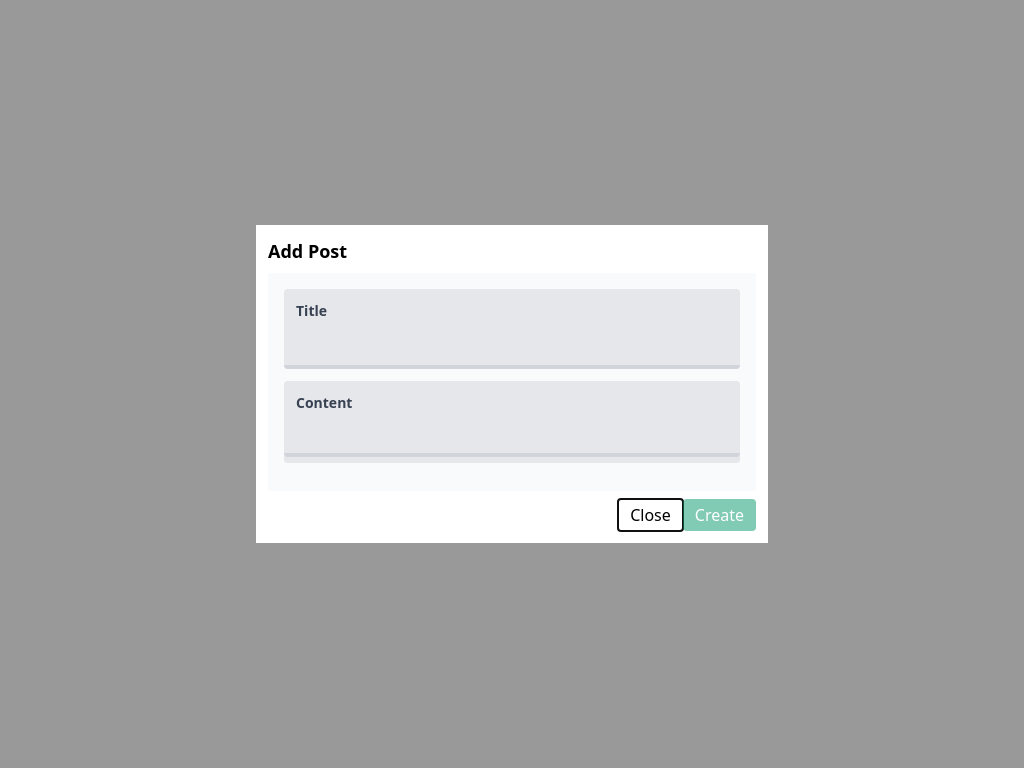
it: PostModal › user fills the post title and post content › should have the modal action button enabled
This screenshot has width=1024, height=768.
Step 1. Type "test title" into the field labelled "Title" → (512, 349), box [284,329,740,369]
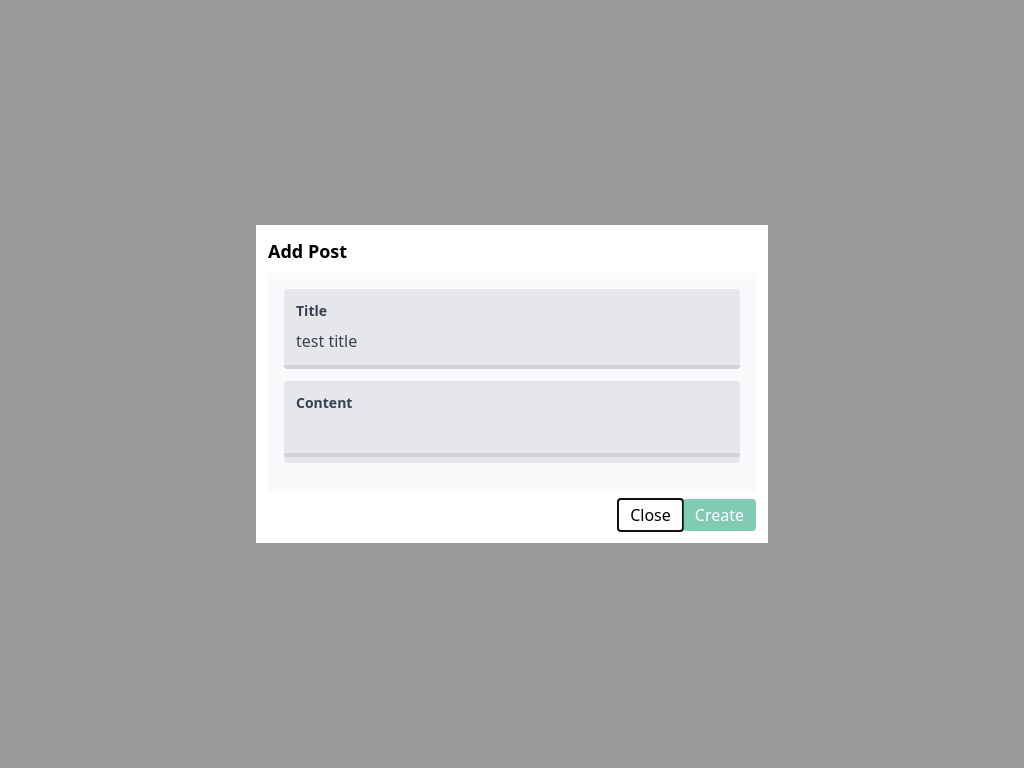
Step 2. Type "test content" into the text box labelled "Content" → (512, 439), box [284,421,740,457]
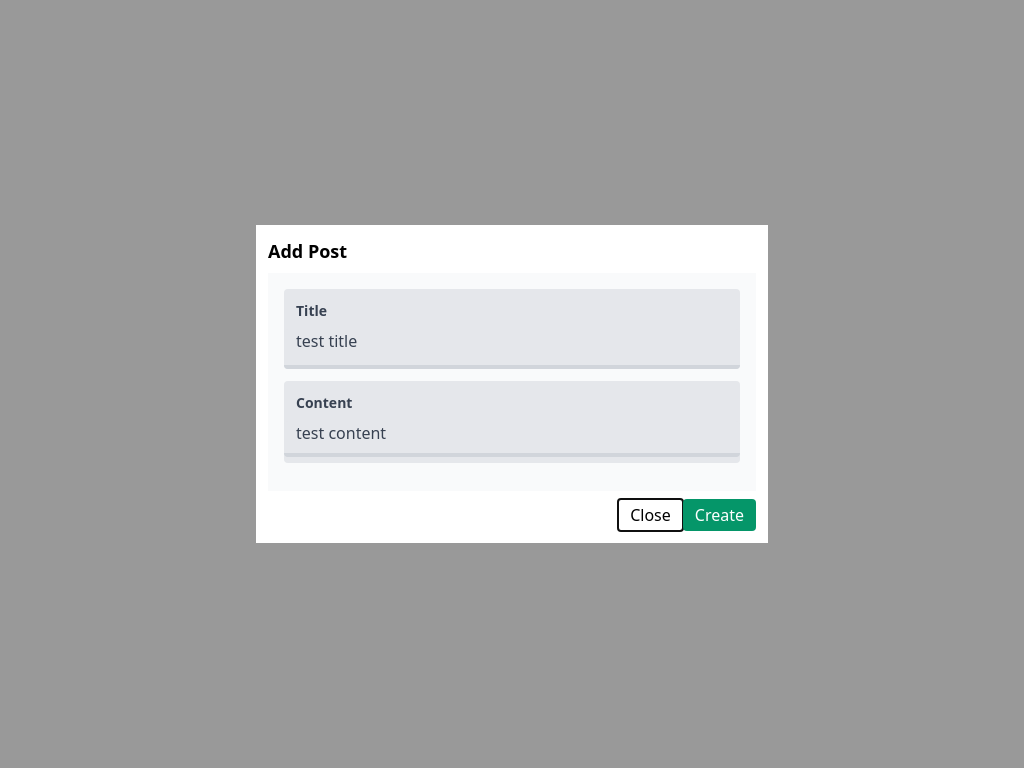
Expected: the button "Create" is enabled, [683,499,756,531]
